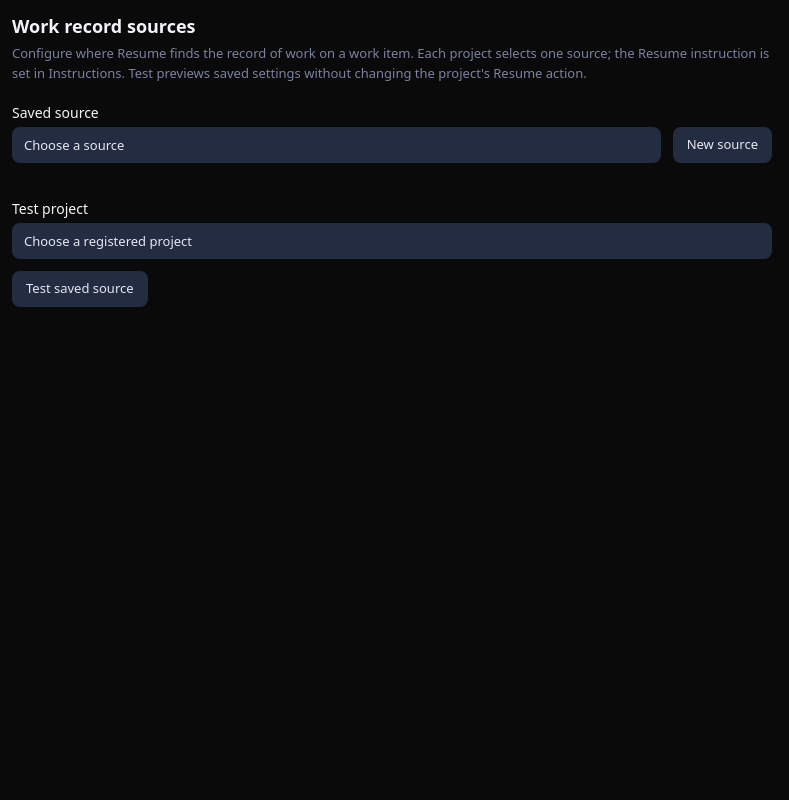
Test: Resume sources settings › shows recoverable source errors and protects an edited saved revision
This screenshot has width=789, height=800.
Select "Notes" in the dropdown labelled "Saved source" at (336, 145), box [12,127,661,163]
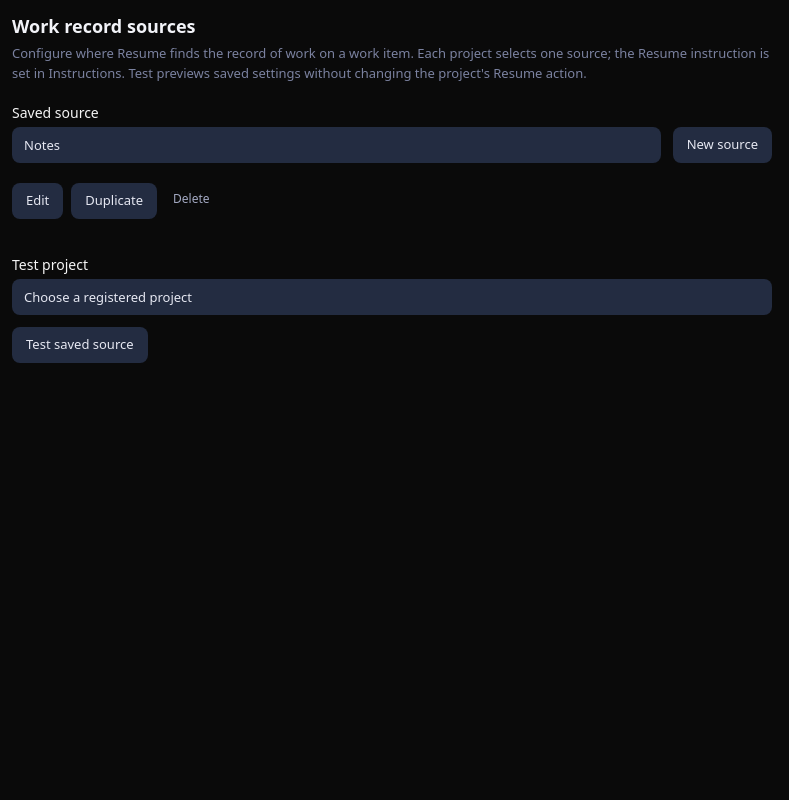
Select "One (/one)" in the dropdown labelled "Test project" at (392, 297), box [12,279,772,315]
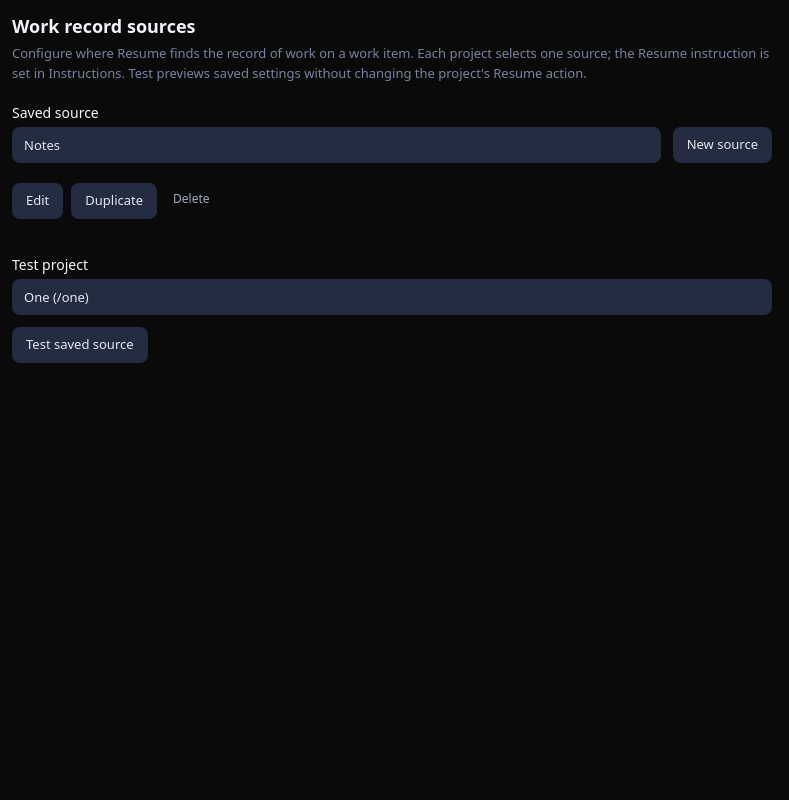
Click the button "Test saved source" at (80, 345), box [12,327,148,363]
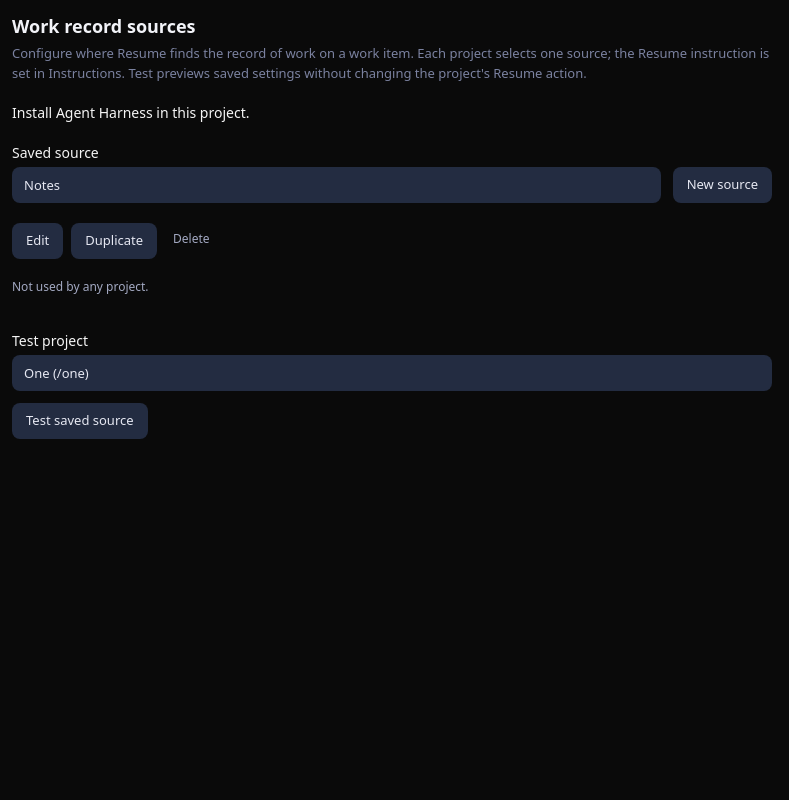
Now the message shows "Install Agent Harness", box [12,103,250,122]
Click the button "Test saved source" at (80, 421), box [12,403,148,439]
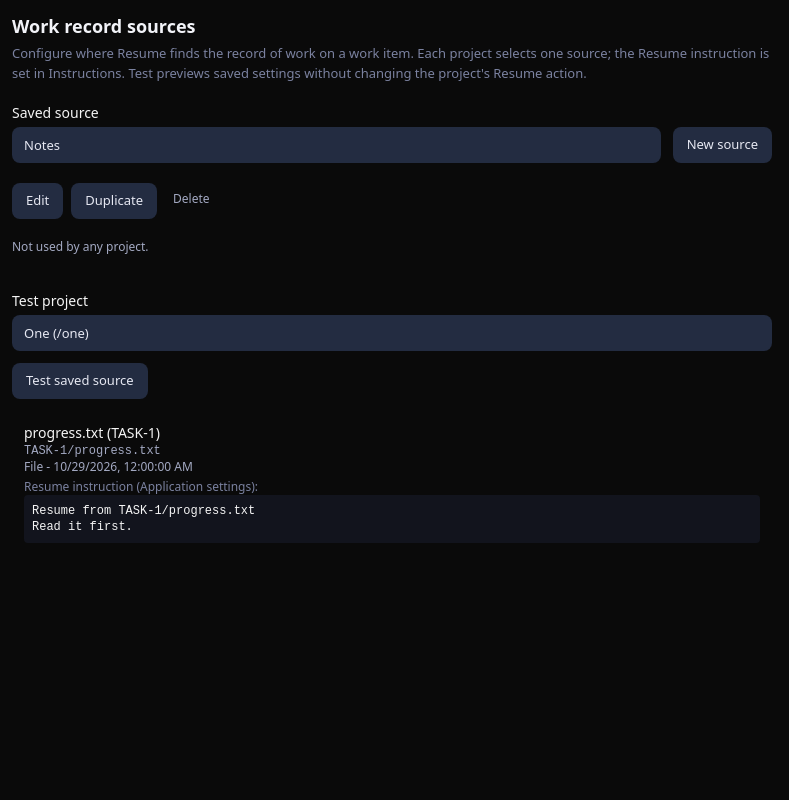
Now the 1st text "TASK-1/progress.txt" is shown, box [24,444,161,458]
Click the button "Edit" at (38, 201), box [12,183,63,219]
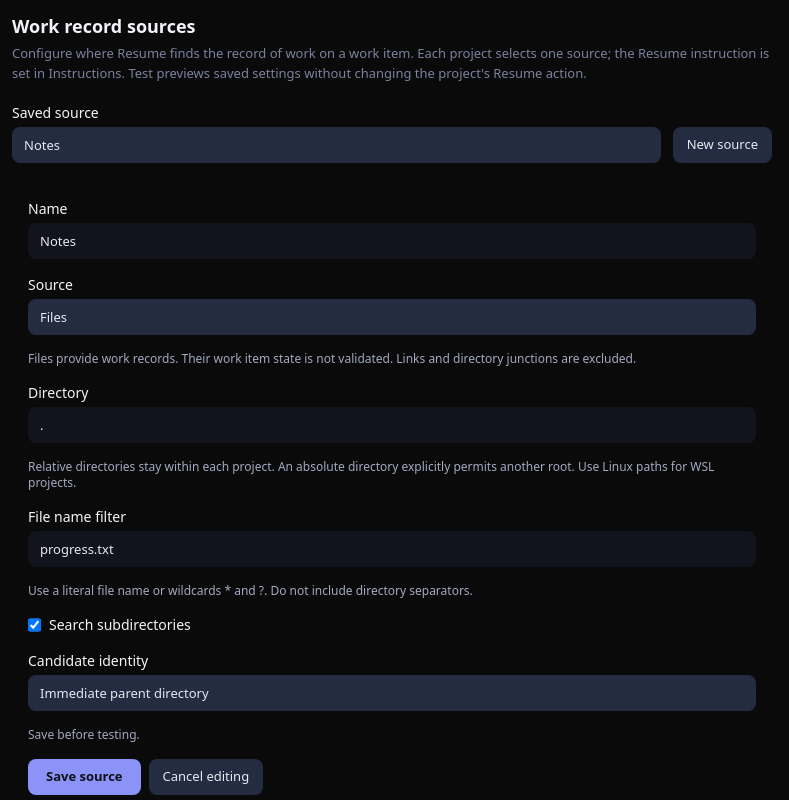
Click the button "Save source" at (84, 777), box [28,759,140,795]
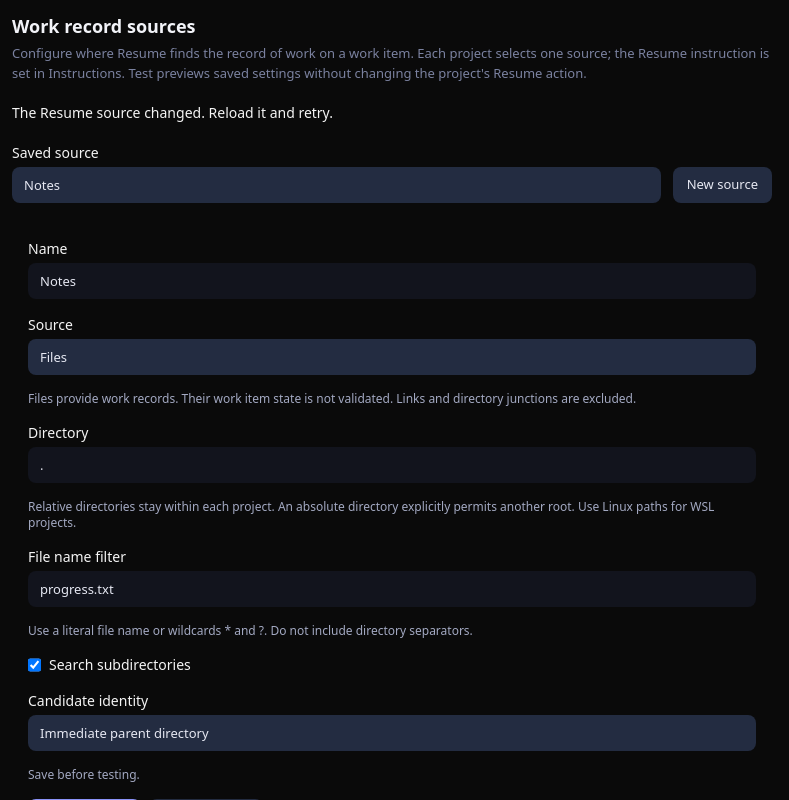
Now the field labelled "Name" holds "Notes", box [28,263,756,299]
Now the message shows "changed", box [12,103,333,122]
